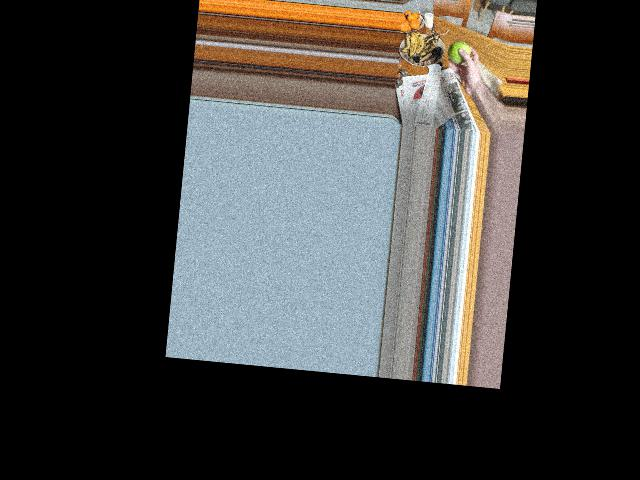apple: (446, 38, 469, 67)
